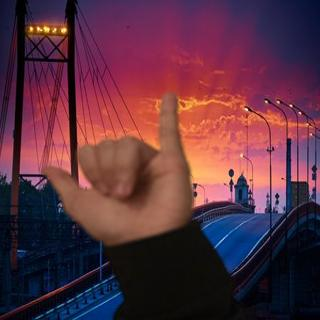HAVE: (39, 92, 200, 249)
